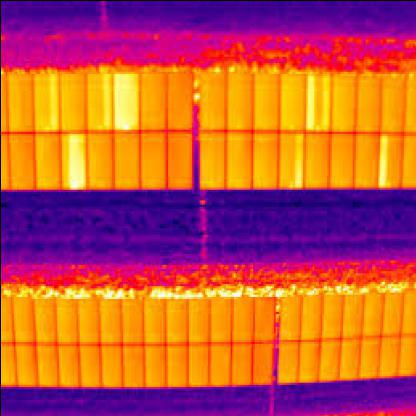Defects: (114, 70, 135, 128)
